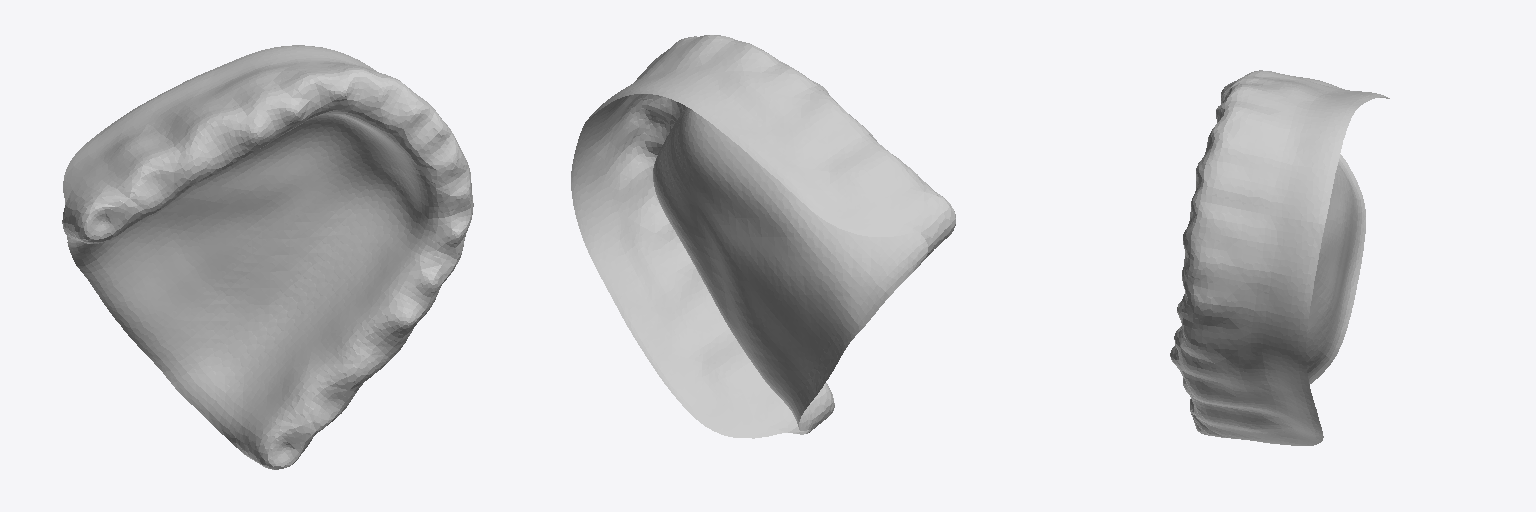
Rendered from gumsbottom.obj.
The picture shows the model from 3 angles: view 1: azimuth 30°, elevation 25°; view 2: azimuth 150°, elevation 25°; view 3: azimuth 270°, elevation 25°; orthographic projection.
Visible parts, largest first — view 1: Group61790; view 2: Group61790; view 3: Group61790.
Part boxes in pixels (left/top/right/bottom): Group61790: left=62, top=45, right=473, bottom=469; Group61790: left=571, top=35, right=955, bottom=438; Group61790: left=1170, top=70, right=1389, bottom=445.
Bounding box in the file's own units: 0.5273 × 0.5149 × 0.2752.